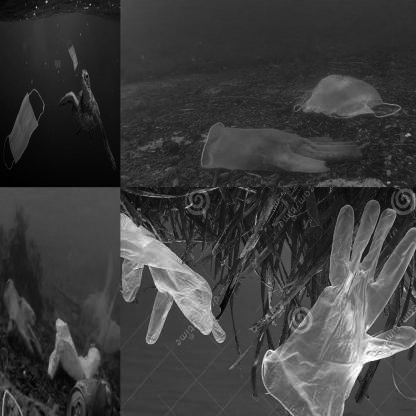Mask: (291, 74, 405, 119), (3, 88, 47, 174), (67, 40, 80, 78), (51, 56, 64, 78)
glove: (253, 200, 416, 416), (120, 209, 225, 359), (192, 121, 364, 174), (47, 317, 100, 386), (3, 278, 40, 360)
